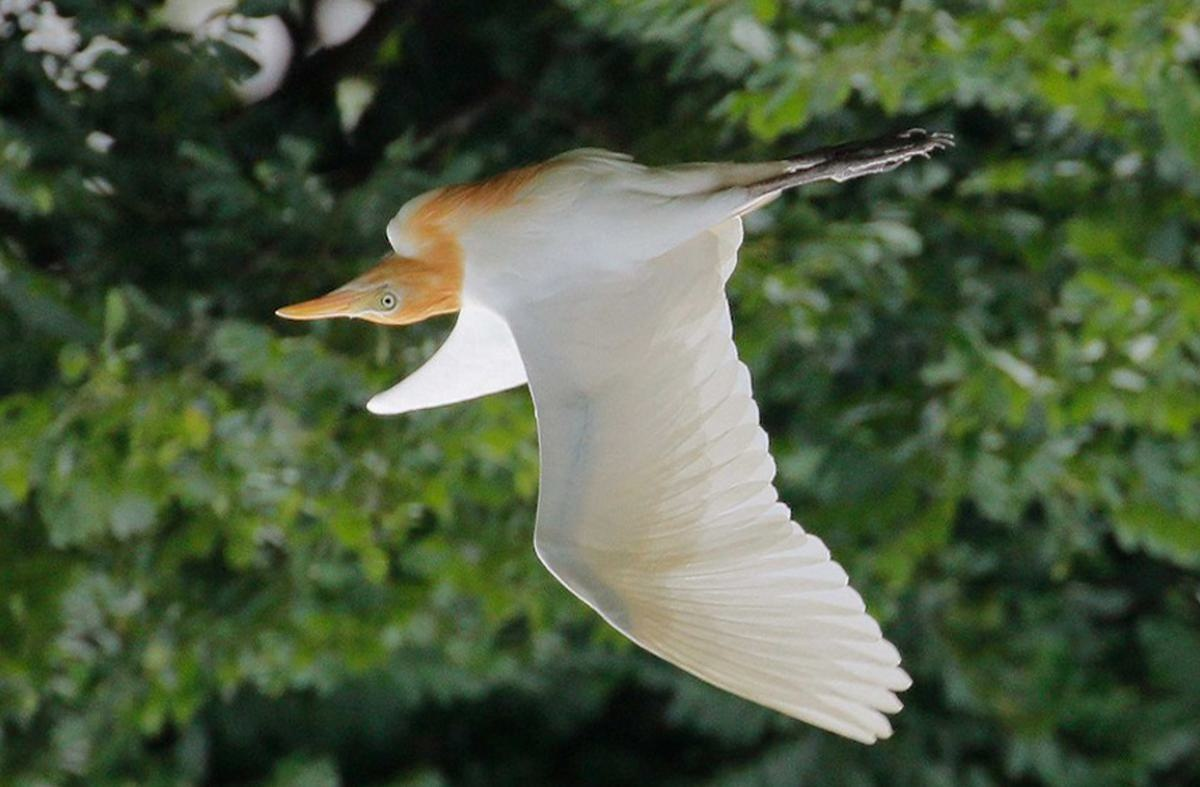egret: (288, 124, 993, 771)
